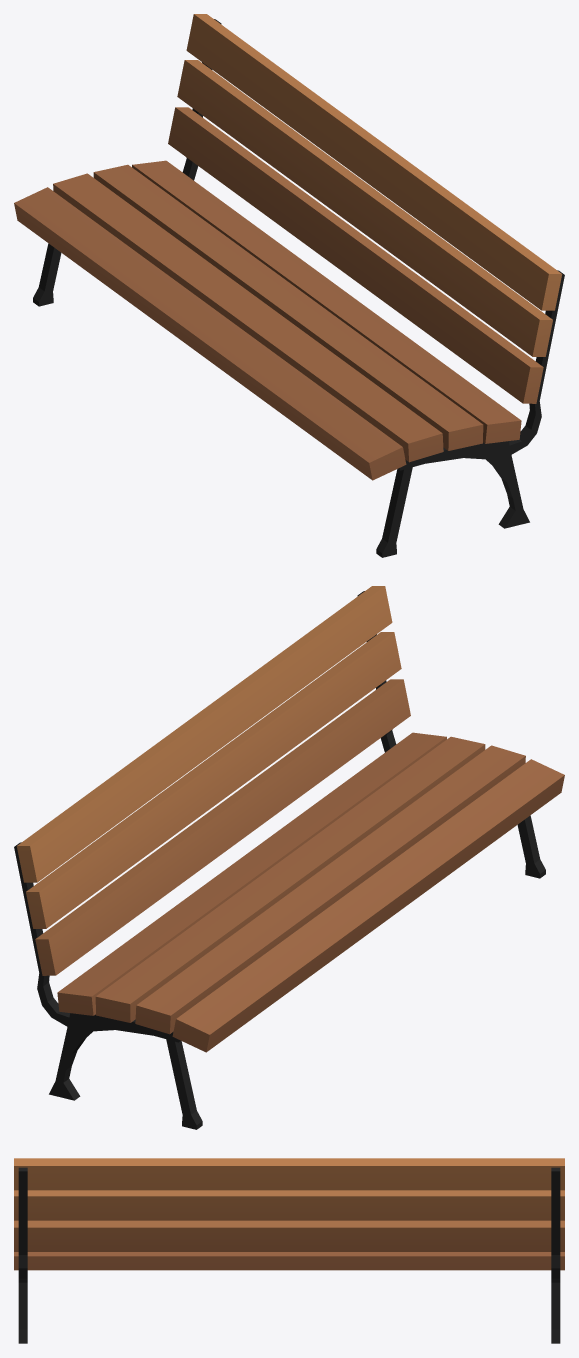
Rendered from Wooden_Bench.fbx.
The picture shows the model from 3 angles, top to bottom: view 1: azimuth 30°, elevation 25°; view 2: azimuth 150°, elevation 25°; view 3: azimuth 270°, elevation 25°; orthographic projection. The views are drawn at different scales.
Visible parts, largest first — view 1: PArkBench3; view 2: PArkBench3; view 3: PArkBench3.
Boxes of the visible parts, x1,y1,x2,y2 form: PArkBench3: (14,14,564,557); PArkBench3: (14,586,564,1129); PArkBench3: (14,1158,564,1343).
Bounding box in the file's own units: 96.94 × 115 × 300.
